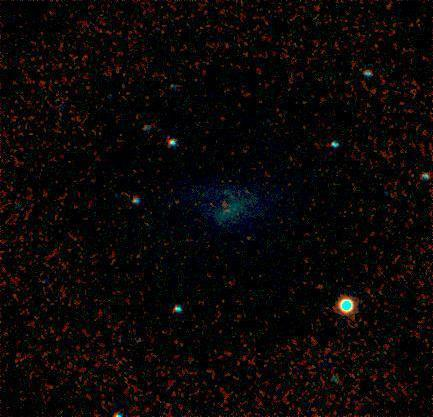star: (214, 193, 244, 223)
